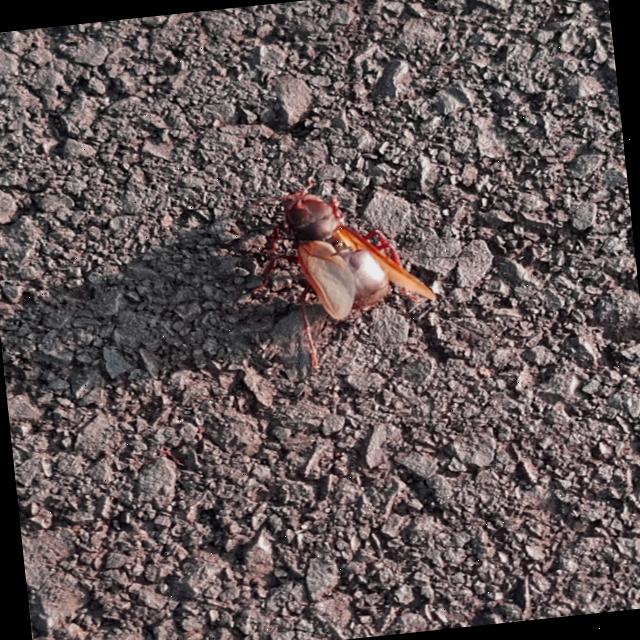Alive-Female-Alate: (241, 169, 442, 372)
